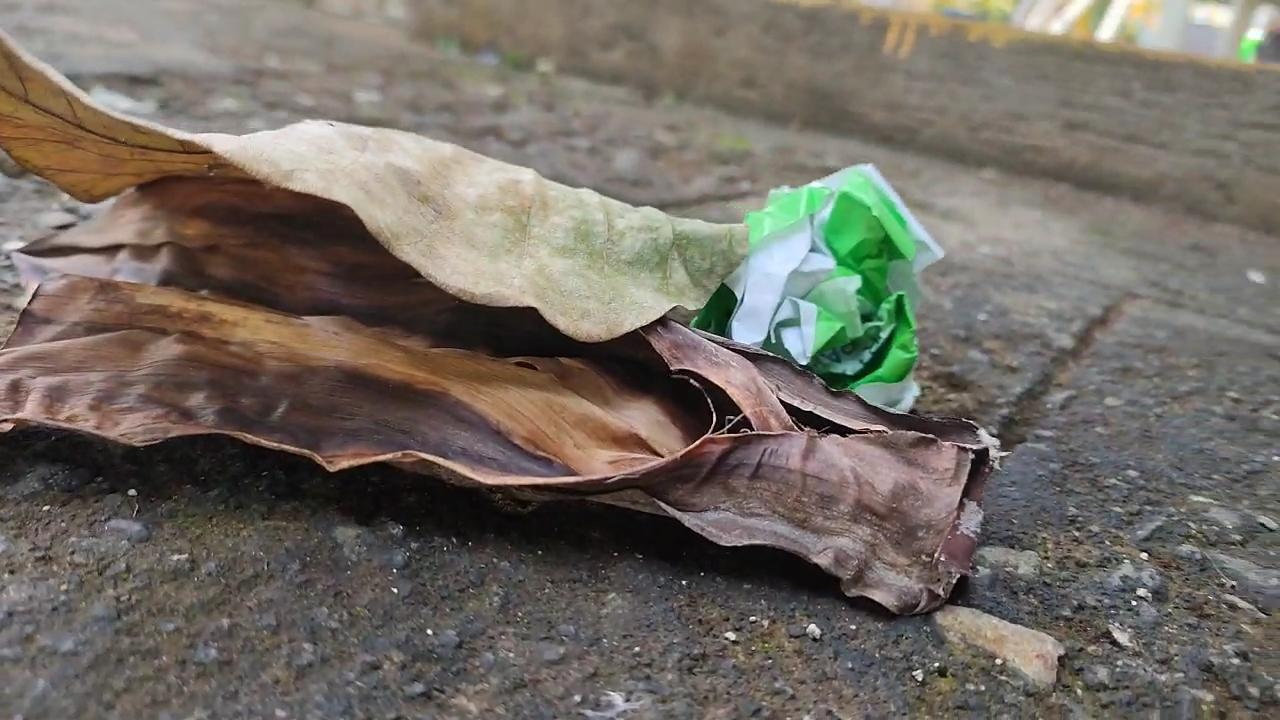Paper: (739, 155, 932, 412)
